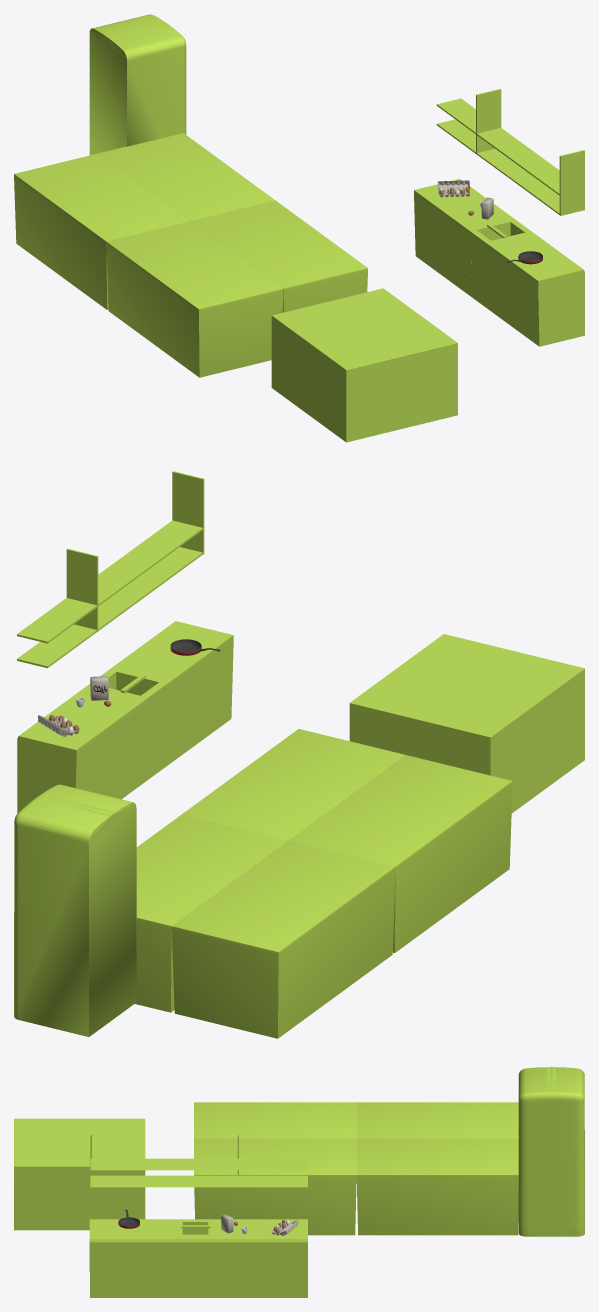
The model's file is Scene_Sizes.fbx.
3 renders of one model, top to bottom at view 1: azimuth 30°, elevation 25°; view 2: azimuth 150°, elevation 25°; view 3: azimuth 270°, elevation 25°, orthographic. The views are drawn at different scales.
Parts seen in each view (by area): view 1: Table.003, Table Järvi.005, cabinet_ground_60x82.008, Table Järvi.007, body.001, Table Järvi.004, Table Järvi.006, cabinet_wall_40.012, cabinet_wall_40.011, cabinet_wall_40.014, cabinet_wall_40.013, cabinet_ground_60x82.011; view 2: Table Järvi.007, body.001, Table.003, Table Järvi.005, cabinet_ground_60x82.008, Table Järvi.006, Table Järvi.004, cabinet_wall_40.012, cabinet_wall_40.011, cabinet_wall_40.014, cabinet_wall_40.013, cabinet_ground_60x82.011; view 3: Table Järvi.006, cabinet_ground_60x82.008, Table.003, Table Järvi.004, body.001, Table Järvi.007, Table Järvi.005, cabinet_wall_40.011, cabinet_wall_40.012, cabinet_ground_60x82.010, cabinet_ground_60x82.011.
Boxes of the visible parts, bbox=[...] form: Table.003: bbox=[271, 288, 457, 442]; Table Järvi.005: bbox=[106, 221, 283, 377]; cabinet_ground_60x82.008: bbox=[414, 179, 584, 346]; Table Järvi.007: bbox=[14, 153, 190, 309]; body.001: bbox=[89, 14, 186, 155]; Table Järvi.004: bbox=[191, 200, 367, 312]; Table Järvi.006: bbox=[99, 133, 275, 220]; cabinet_wall_40.012: bbox=[436, 98, 559, 195]; cabinet_wall_40.011: bbox=[436, 119, 559, 214]; cabinet_wall_40.014: bbox=[559, 150, 584, 215]; cabinet_wall_40.013: bbox=[476, 89, 501, 154]; cabinet_ground_60x82.011: bbox=[470, 230, 490, 307]; Table Järvi.007: bbox=[171, 840, 395, 1038]; body.001: bbox=[14, 784, 136, 1036]; Table.003: bbox=[349, 634, 584, 813]; Table Järvi.005: bbox=[289, 755, 512, 952]; cabinet_ground_60x82.008: bbox=[17, 621, 233, 813]; Table Järvi.006: bbox=[135, 814, 288, 1012]; Table Järvi.004: bbox=[182, 729, 404, 840]; cabinet_wall_40.012: bbox=[17, 520, 203, 643]; cabinet_wall_40.011: bbox=[17, 547, 203, 668]; cabinet_wall_40.014: bbox=[172, 471, 204, 554]; cabinet_wall_40.013: bbox=[66, 548, 98, 629]; cabinet_ground_60x82.011: bbox=[141, 682, 166, 780]; Table Järvi.006: bbox=[356, 1138, 518, 1235]; cabinet_ground_60x82.008: bbox=[89, 1219, 307, 1297]; Table.003: bbox=[14, 1118, 145, 1230]; Table Järvi.004: bbox=[194, 1138, 356, 1235]; body.001: bbox=[518, 1067, 584, 1236]; Table Järvi.007: bbox=[356, 1102, 518, 1138]; Table Järvi.005: bbox=[194, 1102, 356, 1138]; cabinet_wall_40.011: bbox=[90, 1175, 307, 1187]; cabinet_wall_40.012: bbox=[90, 1158, 307, 1170]; cabinet_ground_60x82.010: bbox=[182, 1236, 208, 1297]; cabinet_ground_60x82.011: bbox=[182, 1219, 208, 1234].
Bounding box in the file's own units: 119 × 204 × 66.29.
